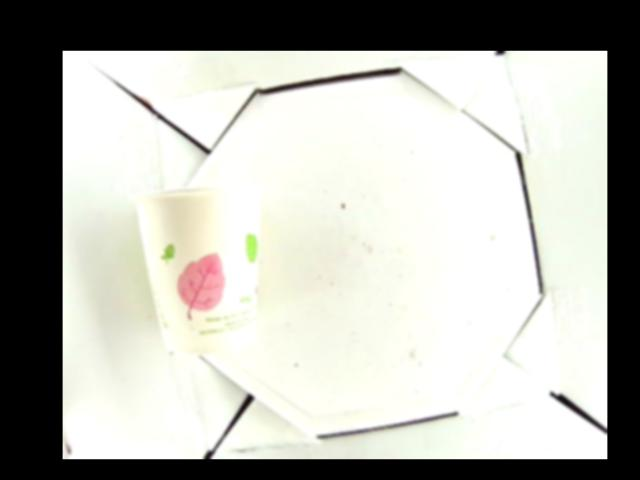Cup: (134, 183, 264, 356)
